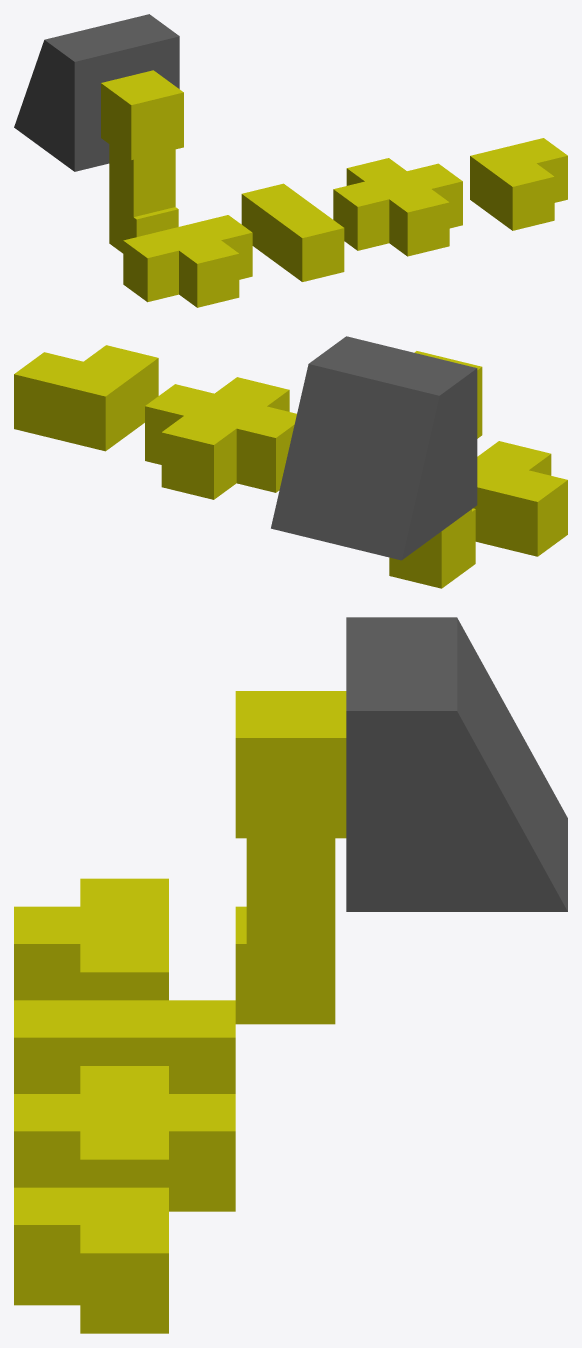
The model's file is GazPipe.fbx.
3 views of the same model, one above another, from view 1: azimuth 30°, elevation 25°; view 2: azimuth 150°, elevation 25°; view 3: azimuth 270°, elevation 25° (orthographic). The views are drawn at different scales.
Parts seen in each view (by area): view 1: Cube, Cube.001, Cube.004, Cube.003, Cube.002; view 2: Cube, Cube.001, Cube.003, Cube.004; view 3: Cube, Cube.001, Cube.003, Cube.002, Cube.004.
Part boxes in pixels (x1,y1,x2,y2): Cube: (14, 14, 183, 253); Cube.001: (333, 158, 462, 256); Cube.004: (123, 215, 252, 307); Cube.003: (470, 138, 567, 230); Cube.002: (241, 183, 344, 281); Cube: (271, 336, 482, 588); Cube.001: (145, 377, 296, 499); Cube.003: (14, 345, 158, 451); Cube.004: (473, 441, 567, 556); Cube: (235, 617, 567, 1024); Cube.001: (14, 1066, 235, 1211); Cube.003: (14, 1187, 168, 1333); Cube.002: (14, 1000, 235, 1093); Cube.004: (14, 878, 168, 1000).
Bounding box in the file's own units: 800 × 340 × 500.
